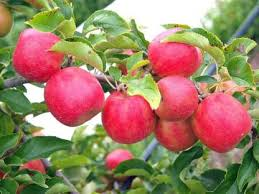tao: (194, 84, 252, 155), (104, 86, 156, 145), (12, 24, 65, 80), (148, 26, 205, 77)
